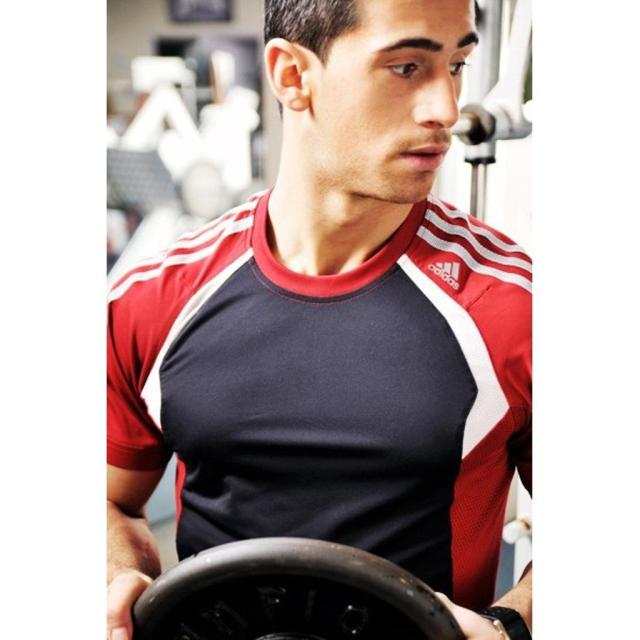Face: (291, 1, 474, 213)
